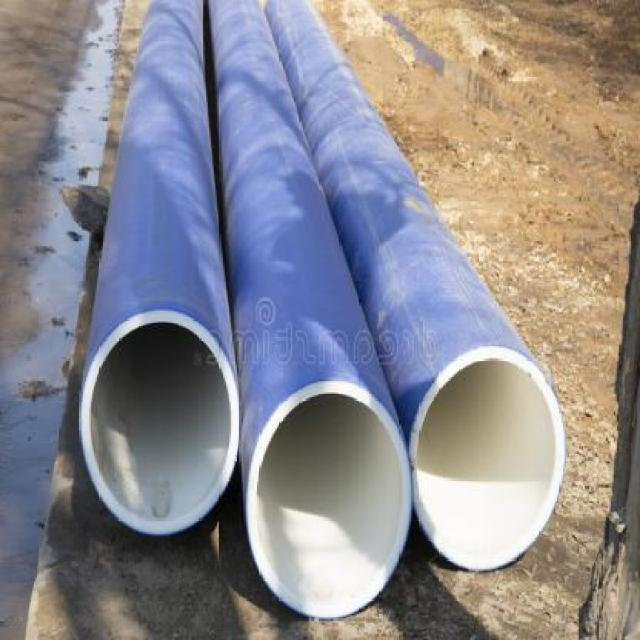pipe: (246, 380, 411, 620), (81, 308, 242, 536), (410, 346, 565, 571)
